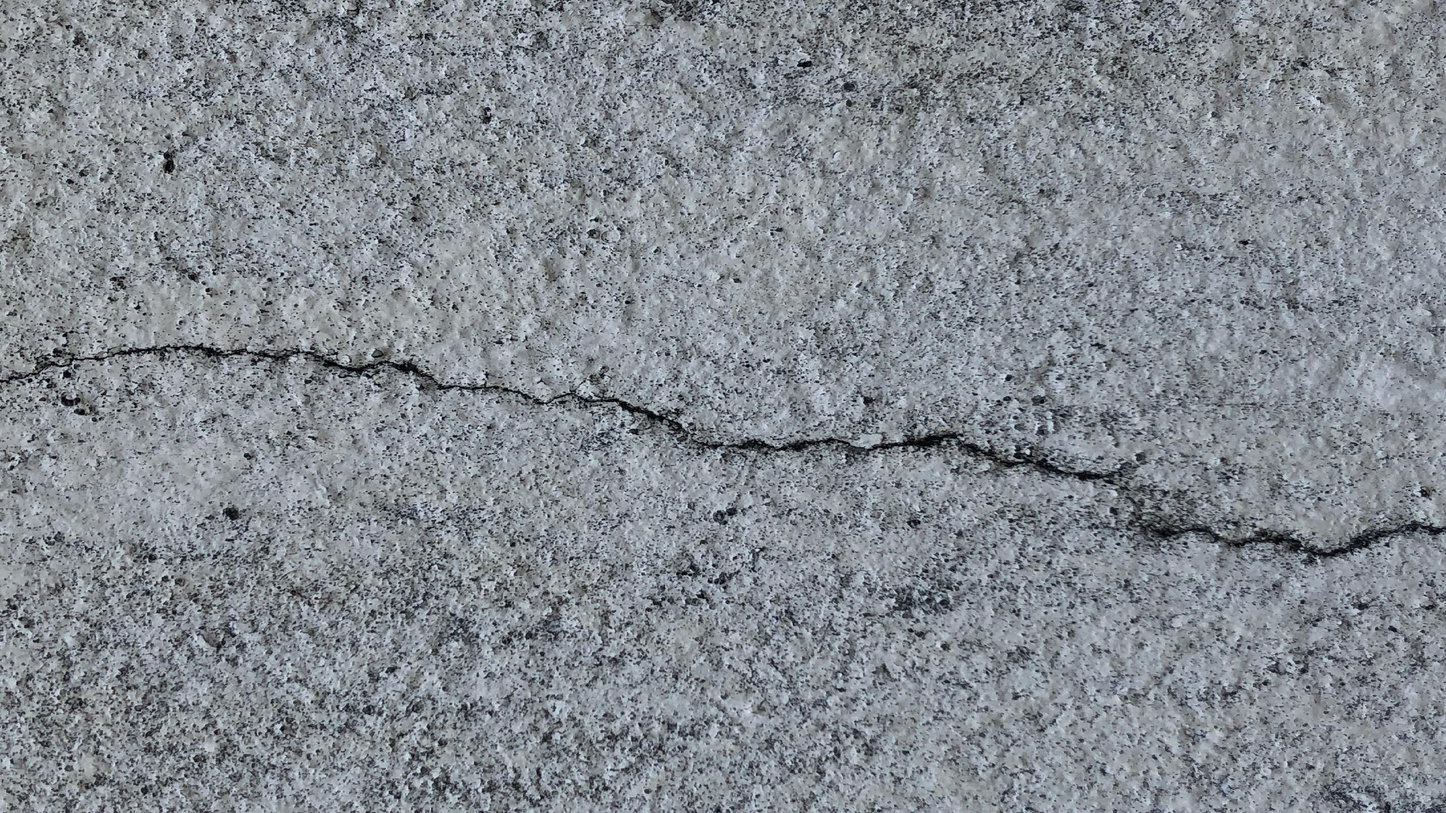crack: (2, 347, 1443, 558)
